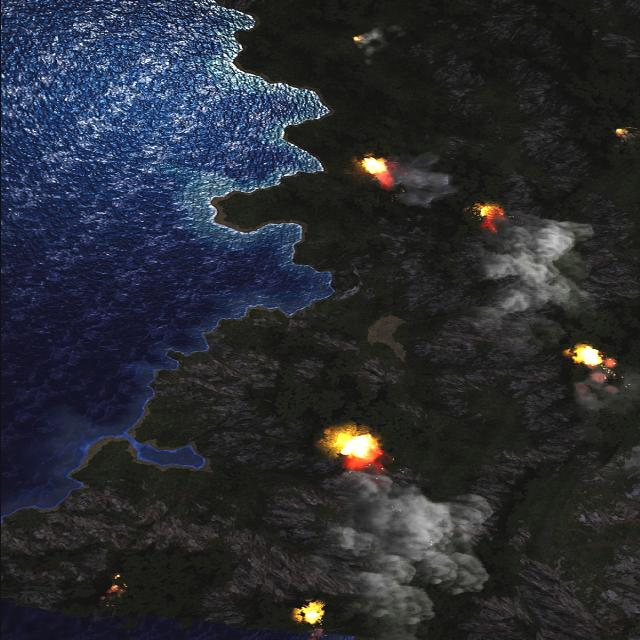fire: (574, 373, 622, 415), (328, 431, 385, 463), (571, 343, 613, 368), (470, 204, 506, 232), (100, 574, 134, 598), (359, 158, 389, 182), (296, 602, 322, 622), (349, 34, 363, 43), (612, 128, 622, 138)
smoke: (325, 462, 491, 636), (466, 218, 594, 348), (395, 157, 455, 210), (340, 26, 404, 54)
